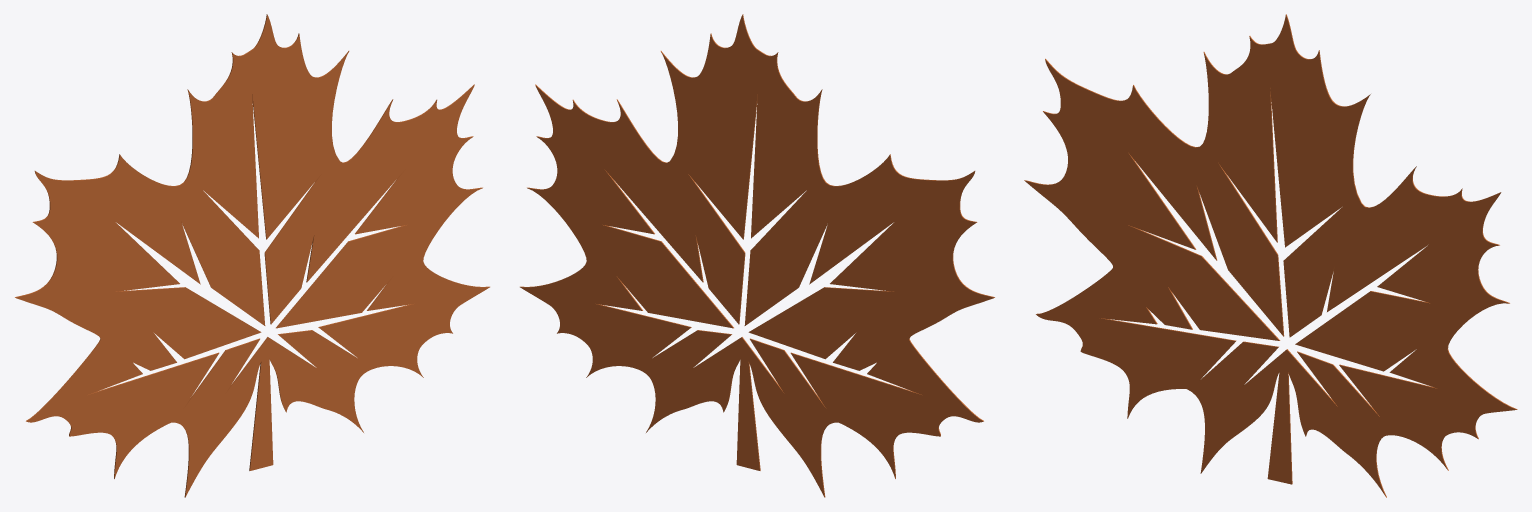
File: leaf.fbx
3 renders of one model, left to right at view 1: azimuth 30°, elevation 25°; view 2: azimuth 150°, elevation 25°; view 3: azimuth 330°, elevation 25°, orthographic. The views are drawn at different scales.
Parts seen in each view (by area): view 1: polySurface1; view 2: polySurface1; view 3: polySurface1.
Boxes of the visible parts, bbox=[...] form: polySurface1: bbox=[15, 14, 489, 497]; polySurface1: bbox=[520, 14, 994, 497]; polySurface1: bbox=[1024, 14, 1517, 497].
Bounding box in the file's own units: 65.02 × 60.55 × 0.15.
